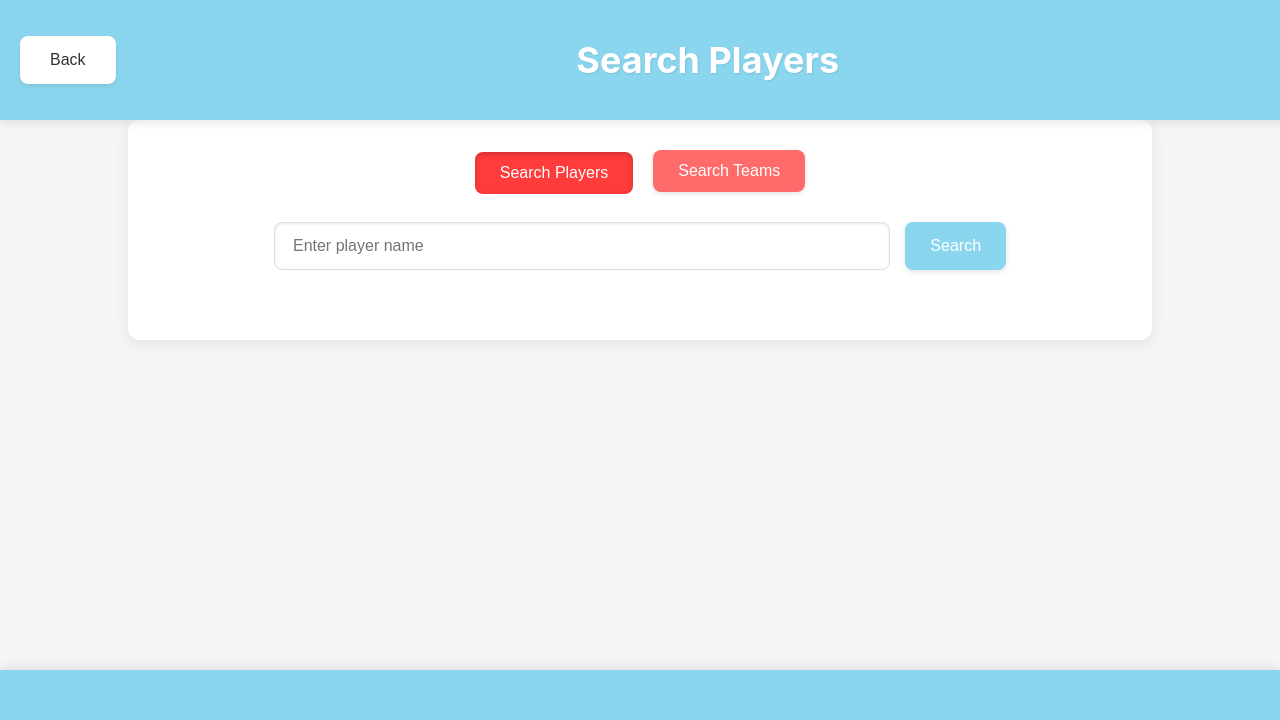
Test: SearchInterface Component › search_player
# trigger user input
Type "LeBron" into the field with placeholder "Enter player name" at x=582, y=246, box [274, 222, 890, 270]
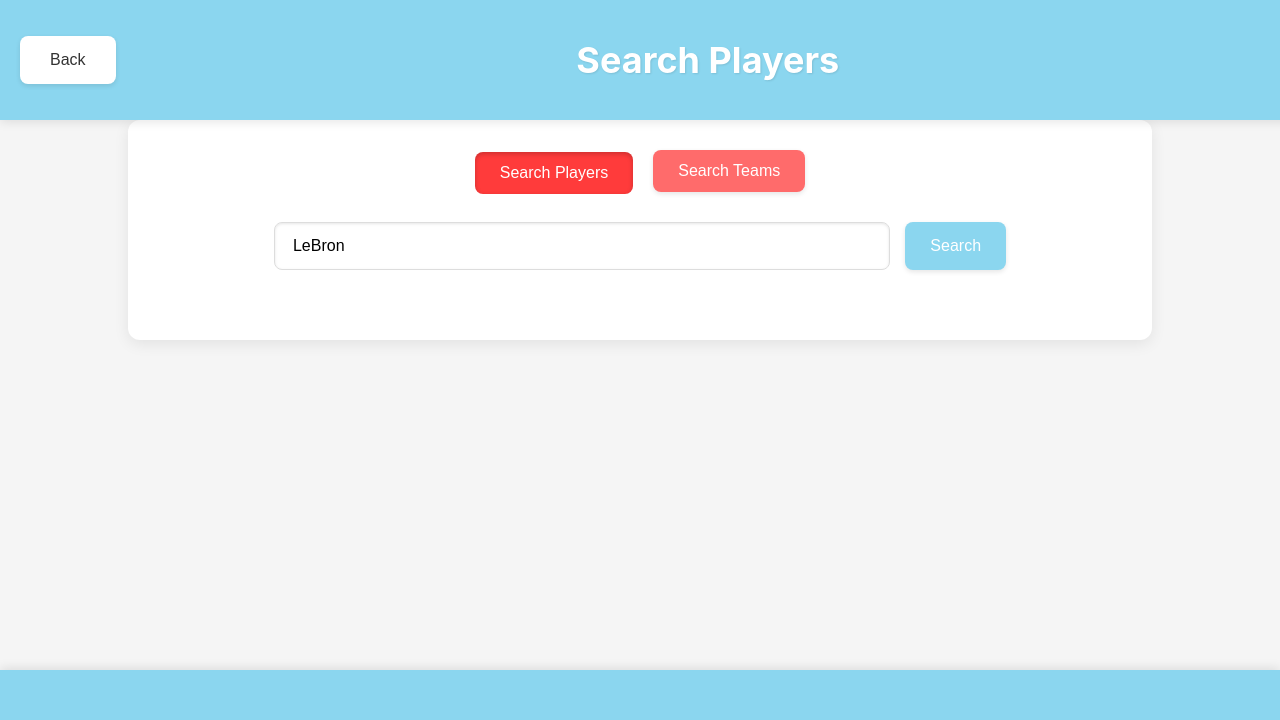
Click the button "Search" at x=956, y=246, box [905, 222, 1006, 270]
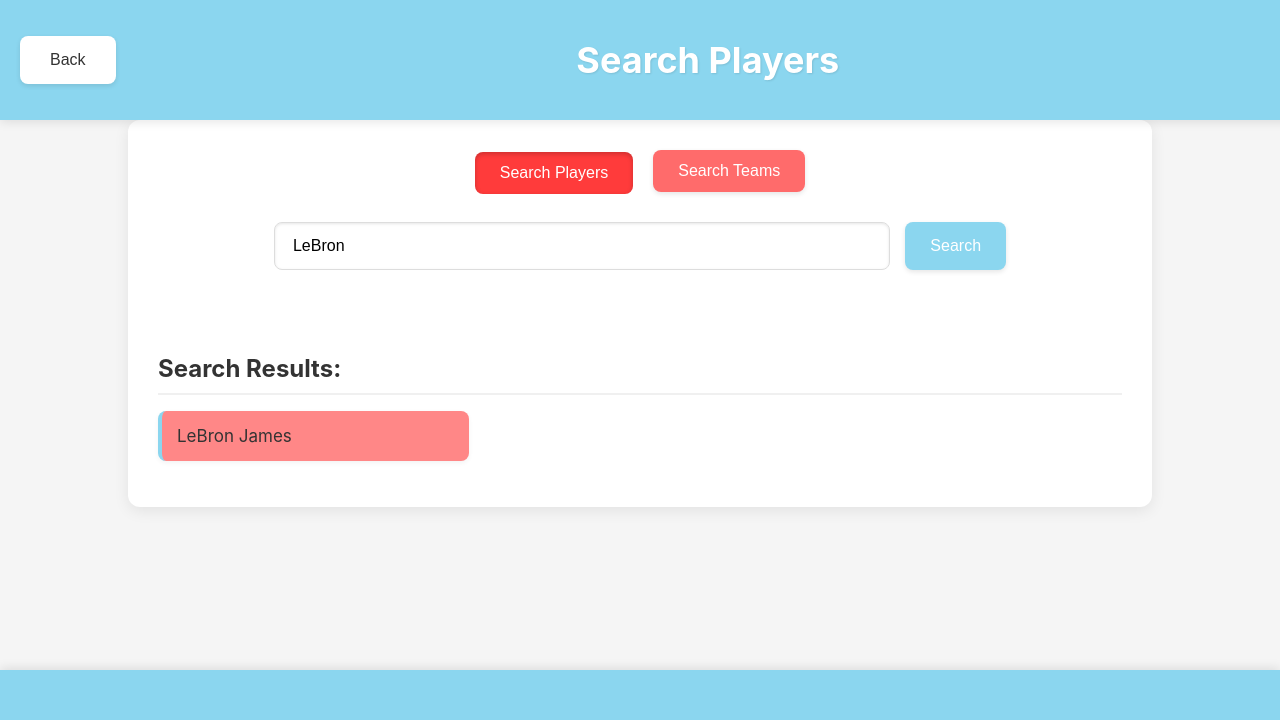
Result: the list item "LeBron James" is shown at [158, 411, 469, 461]
